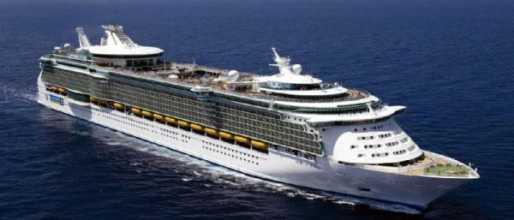youlun: (34, 16, 480, 207)
